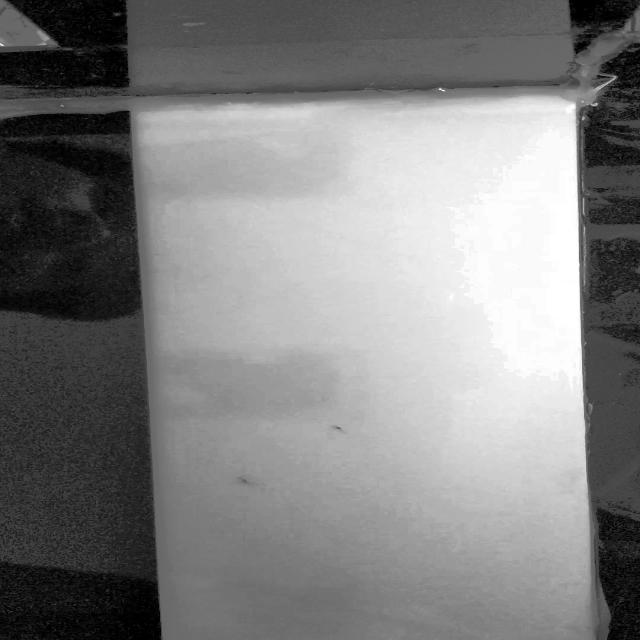shrimp: (229, 474, 258, 488), (321, 420, 350, 432)
